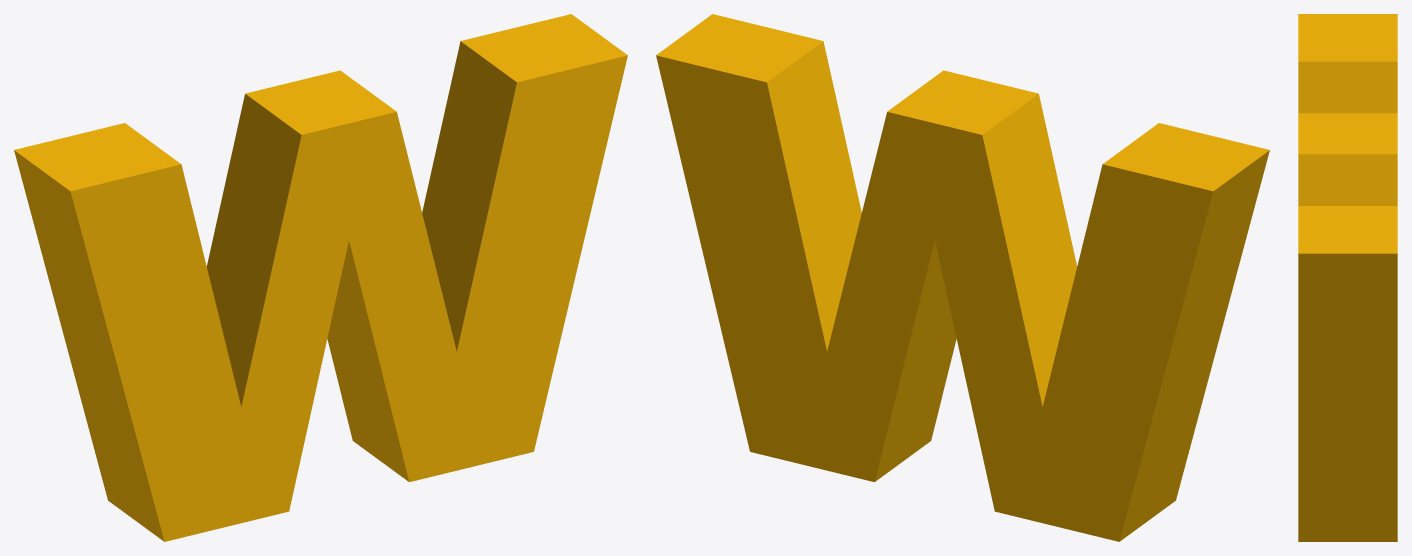
Rendered from huruf_kecil_w.glb.
The picture shows the model from 3 angles, left to right: view 1: azimuth 30°, elevation 25°; view 2: azimuth 150°, elevation 25°; view 3: azimuth 270°, elevation 25°; orthographic projection. The views are drawn at different scales.
Visible parts, largest first — view 1: geometry_0; view 2: geometry_0; view 3: geometry_0.
Boxes of the visible parts, left/top/right/bottom form: geometry_0: left=14, top=14, right=627, bottom=541; geometry_0: left=656, top=14, right=1269, bottom=541; geometry_0: left=1298, top=14, right=1397, bottom=541.
Bounding box in the file's own units: 8.54 × 5.47 × 1.5.
